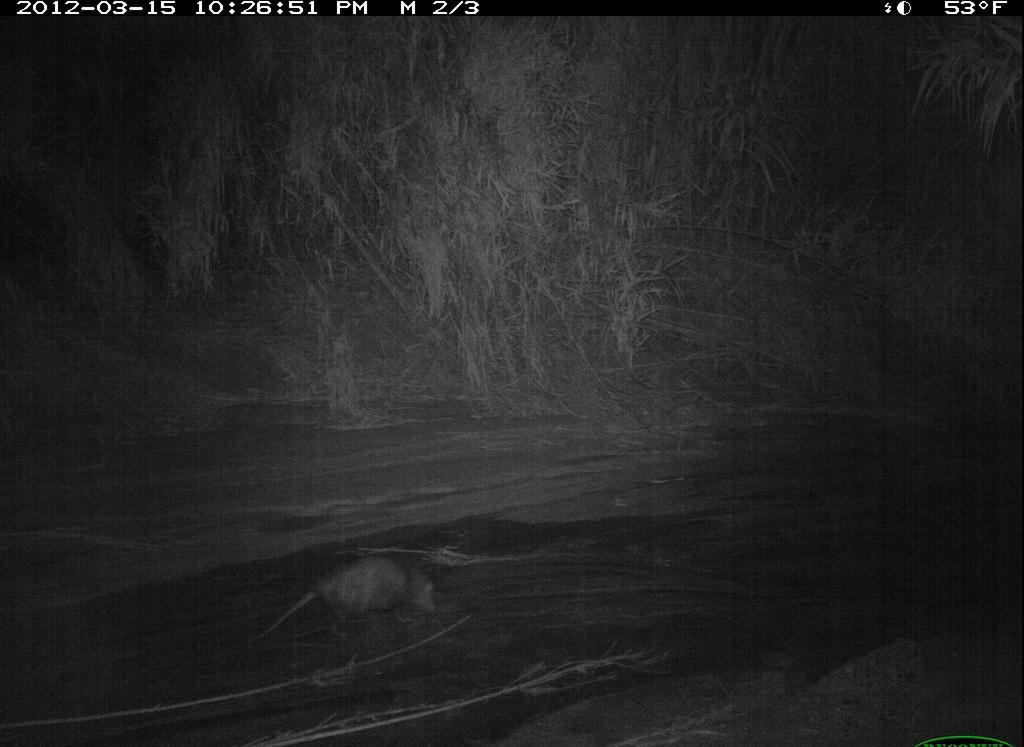opossum: (240, 547, 452, 655)
